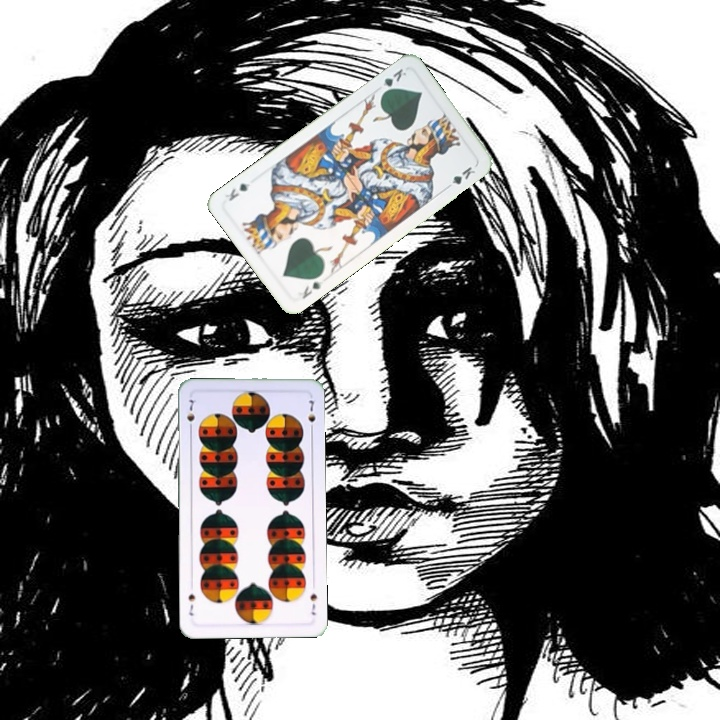GK: (377, 64, 409, 97), (298, 276, 326, 302)
S7: (183, 395, 197, 434), (306, 590, 319, 617)
